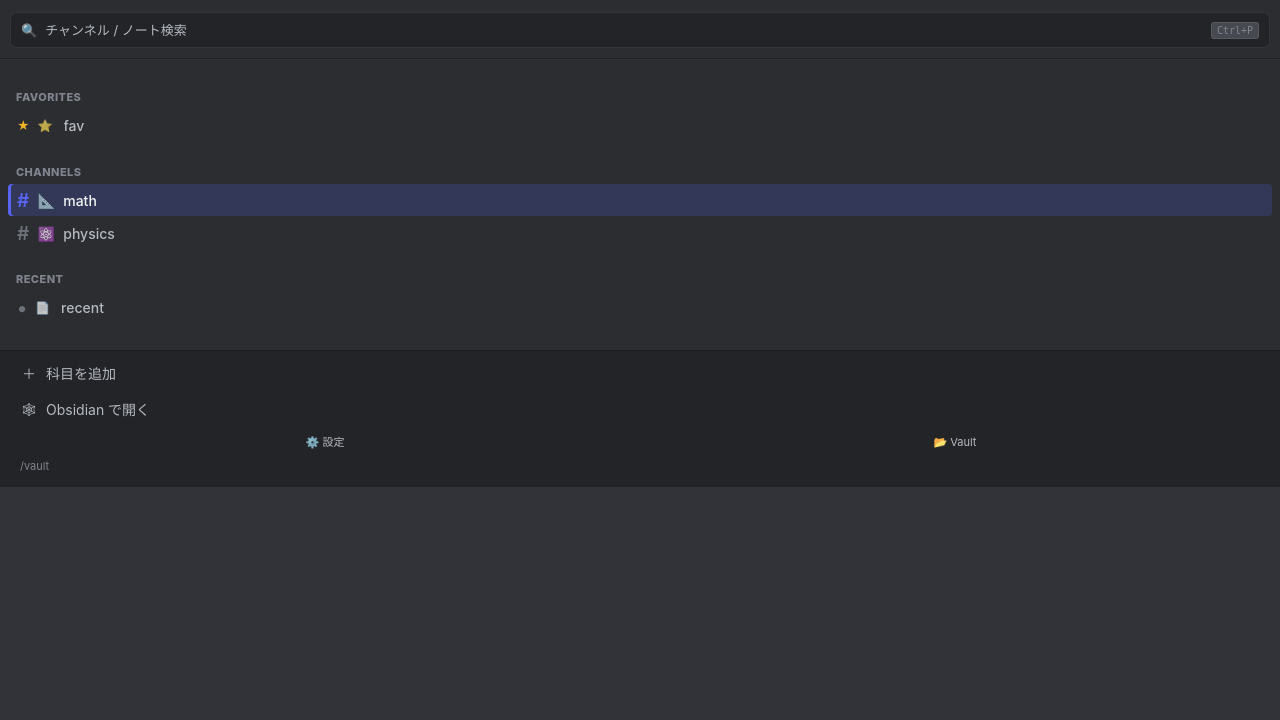
Sidebar context menu actions › shows error when createSubject fails
Click the text "科目を追加".
click(81, 374)  # box x1=46 y1=364 x2=116 y2=383
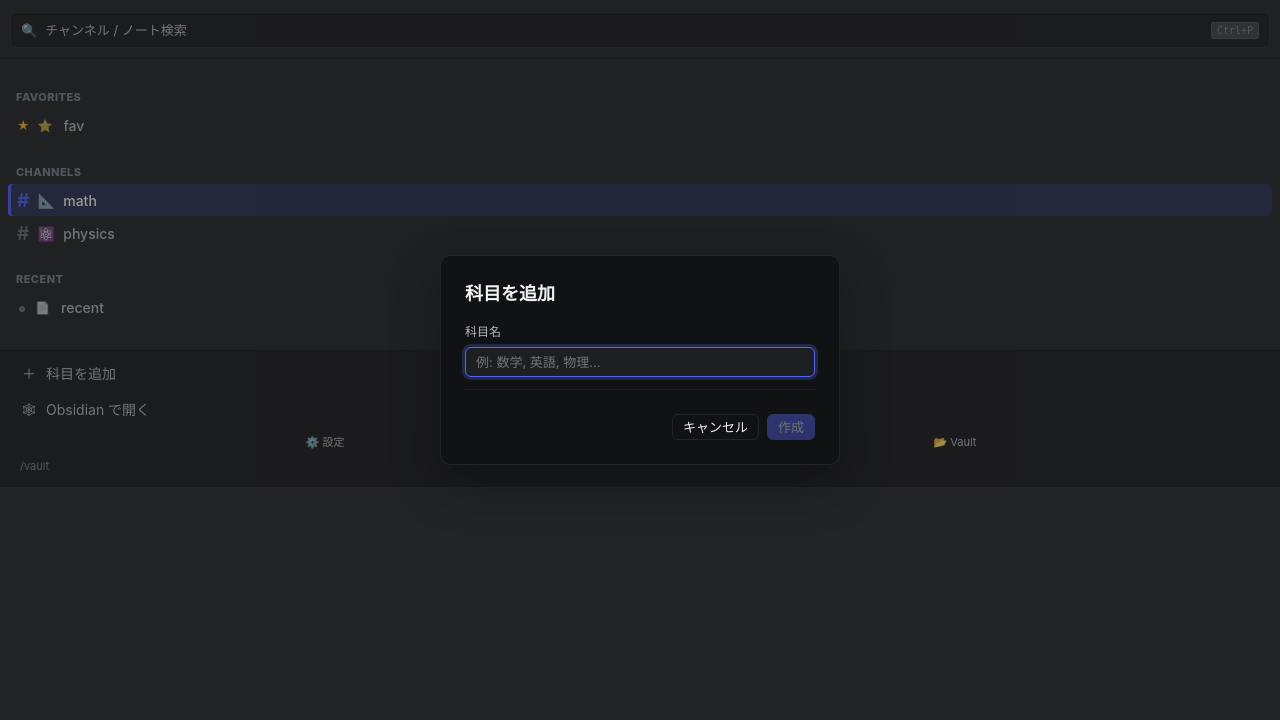
Type "math" into the field with placeholder "例: 数学, 英語, 物理...".
click(640, 362); type("math")  # box x1=465 y1=346 x2=815 y2=376
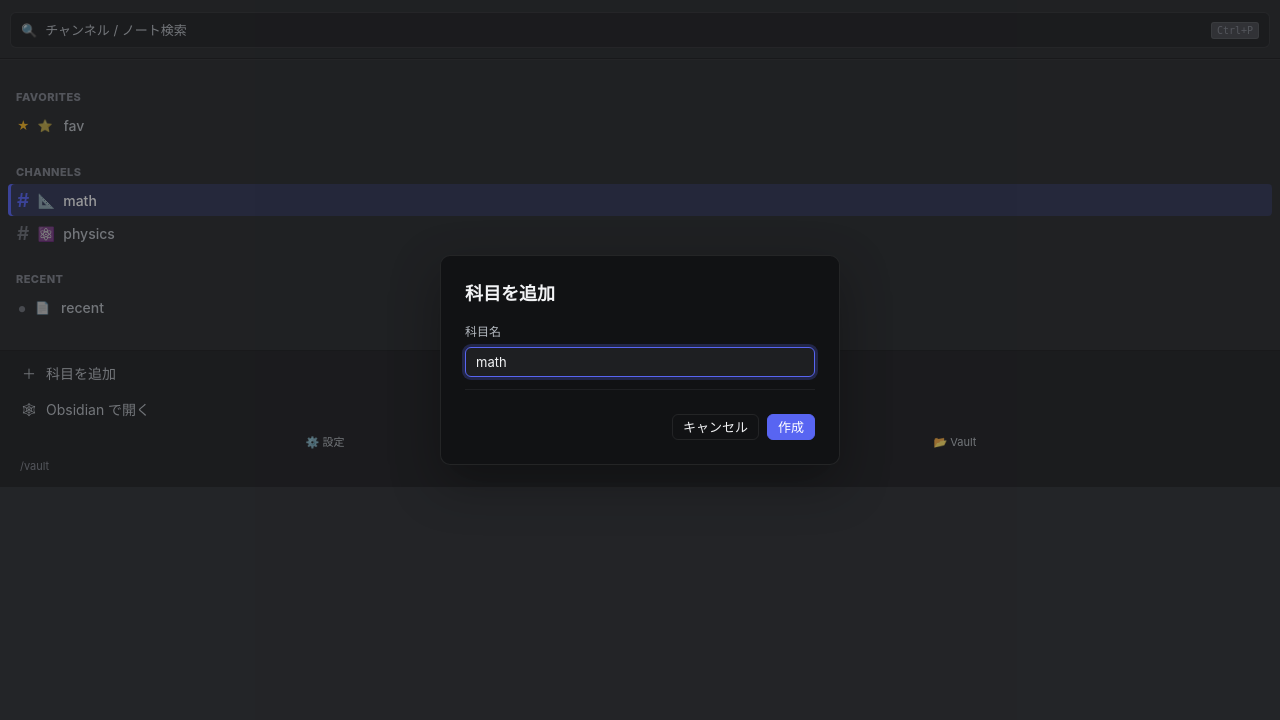
Click the button "作成".
click(791, 427)  # box x1=767 y1=414 x2=815 y2=440
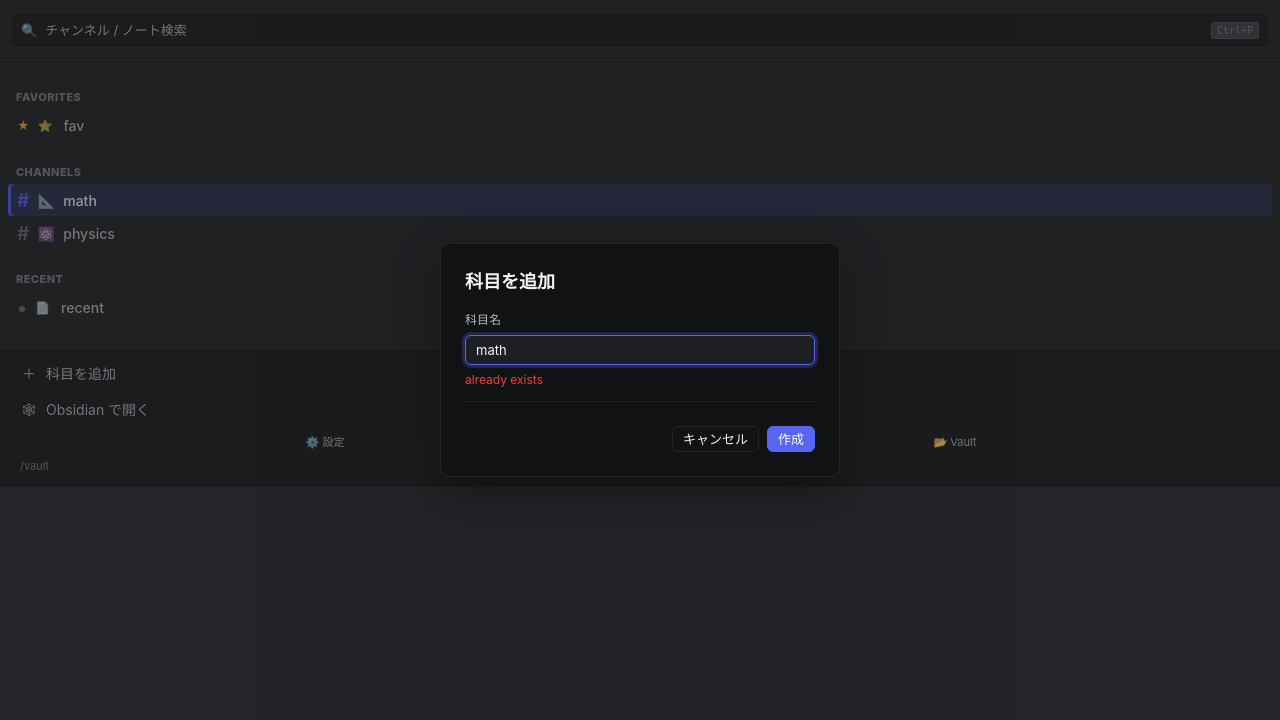
Expected: the text "already exists" is shown, x1=465 y1=372 x2=543 y2=386
